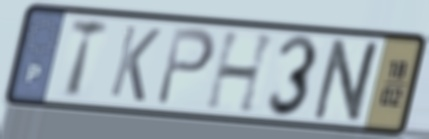3: (265, 32, 322, 120)
H: (202, 29, 281, 117)
K: (106, 22, 164, 105)
N: (308, 36, 387, 126)
P: (153, 24, 218, 109)
T: (65, 16, 112, 102)
